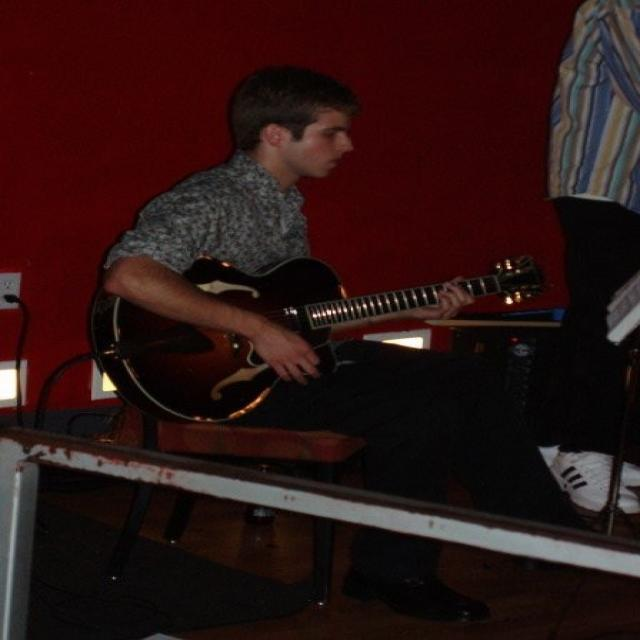guitar: (85, 254, 547, 423)
